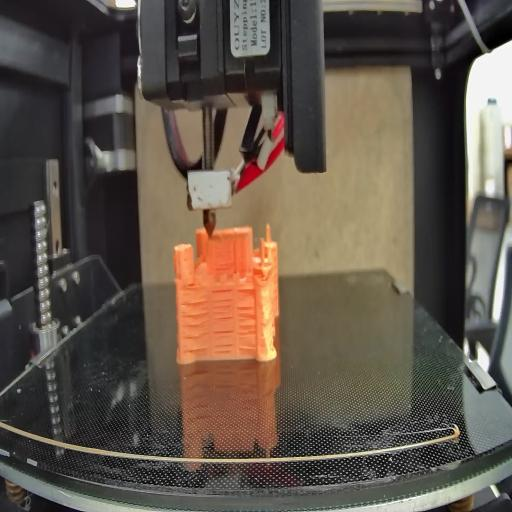cracks: (181, 301, 208, 355), (235, 303, 259, 350), (210, 288, 234, 323), (211, 330, 234, 356), (234, 279, 255, 293), (181, 282, 199, 290)
